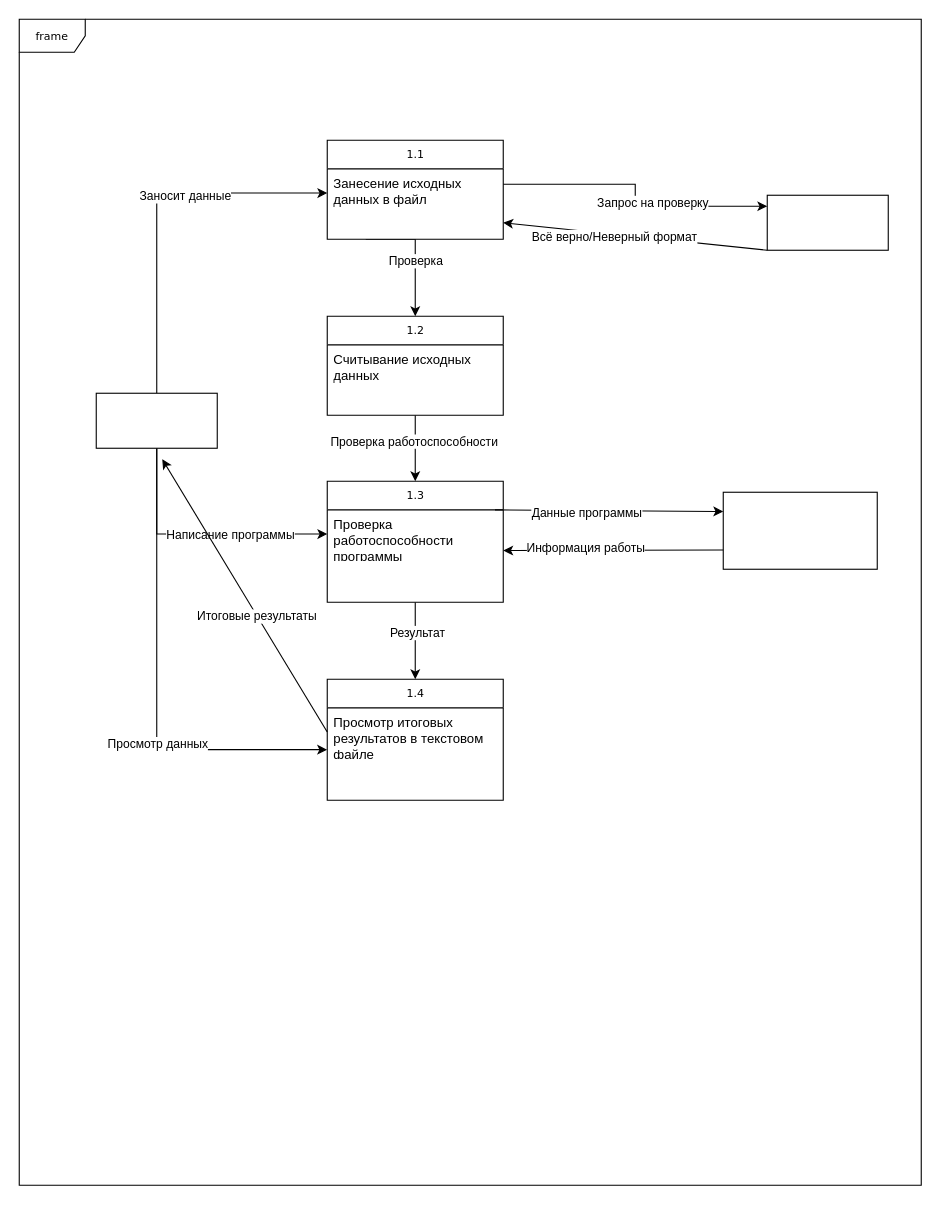
The diagram is 941 pixels wide and 1205 high, and some of its shapes have lost their labels. Here are the shapes that lost their labels. From the top down, the centre of each, then its label:
pixel 827 222: Данные файла
pixel 156 420: Пользователь
pixel 799 530: Информация о работе программы
